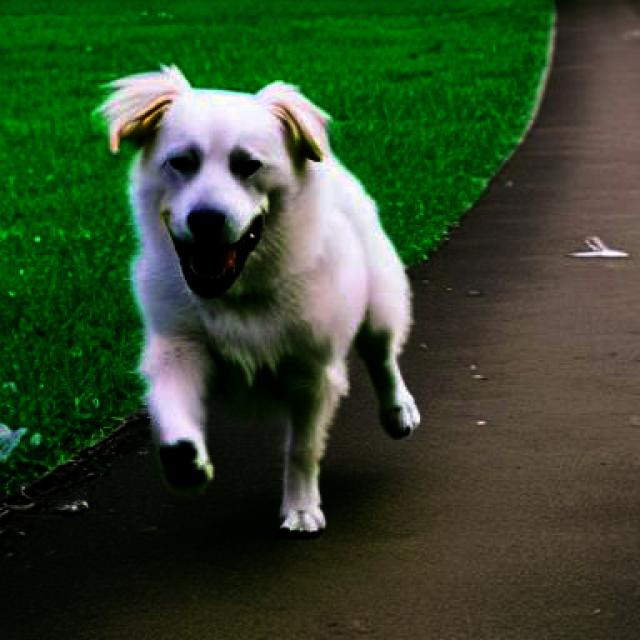Dog: (90, 62, 421, 536)
